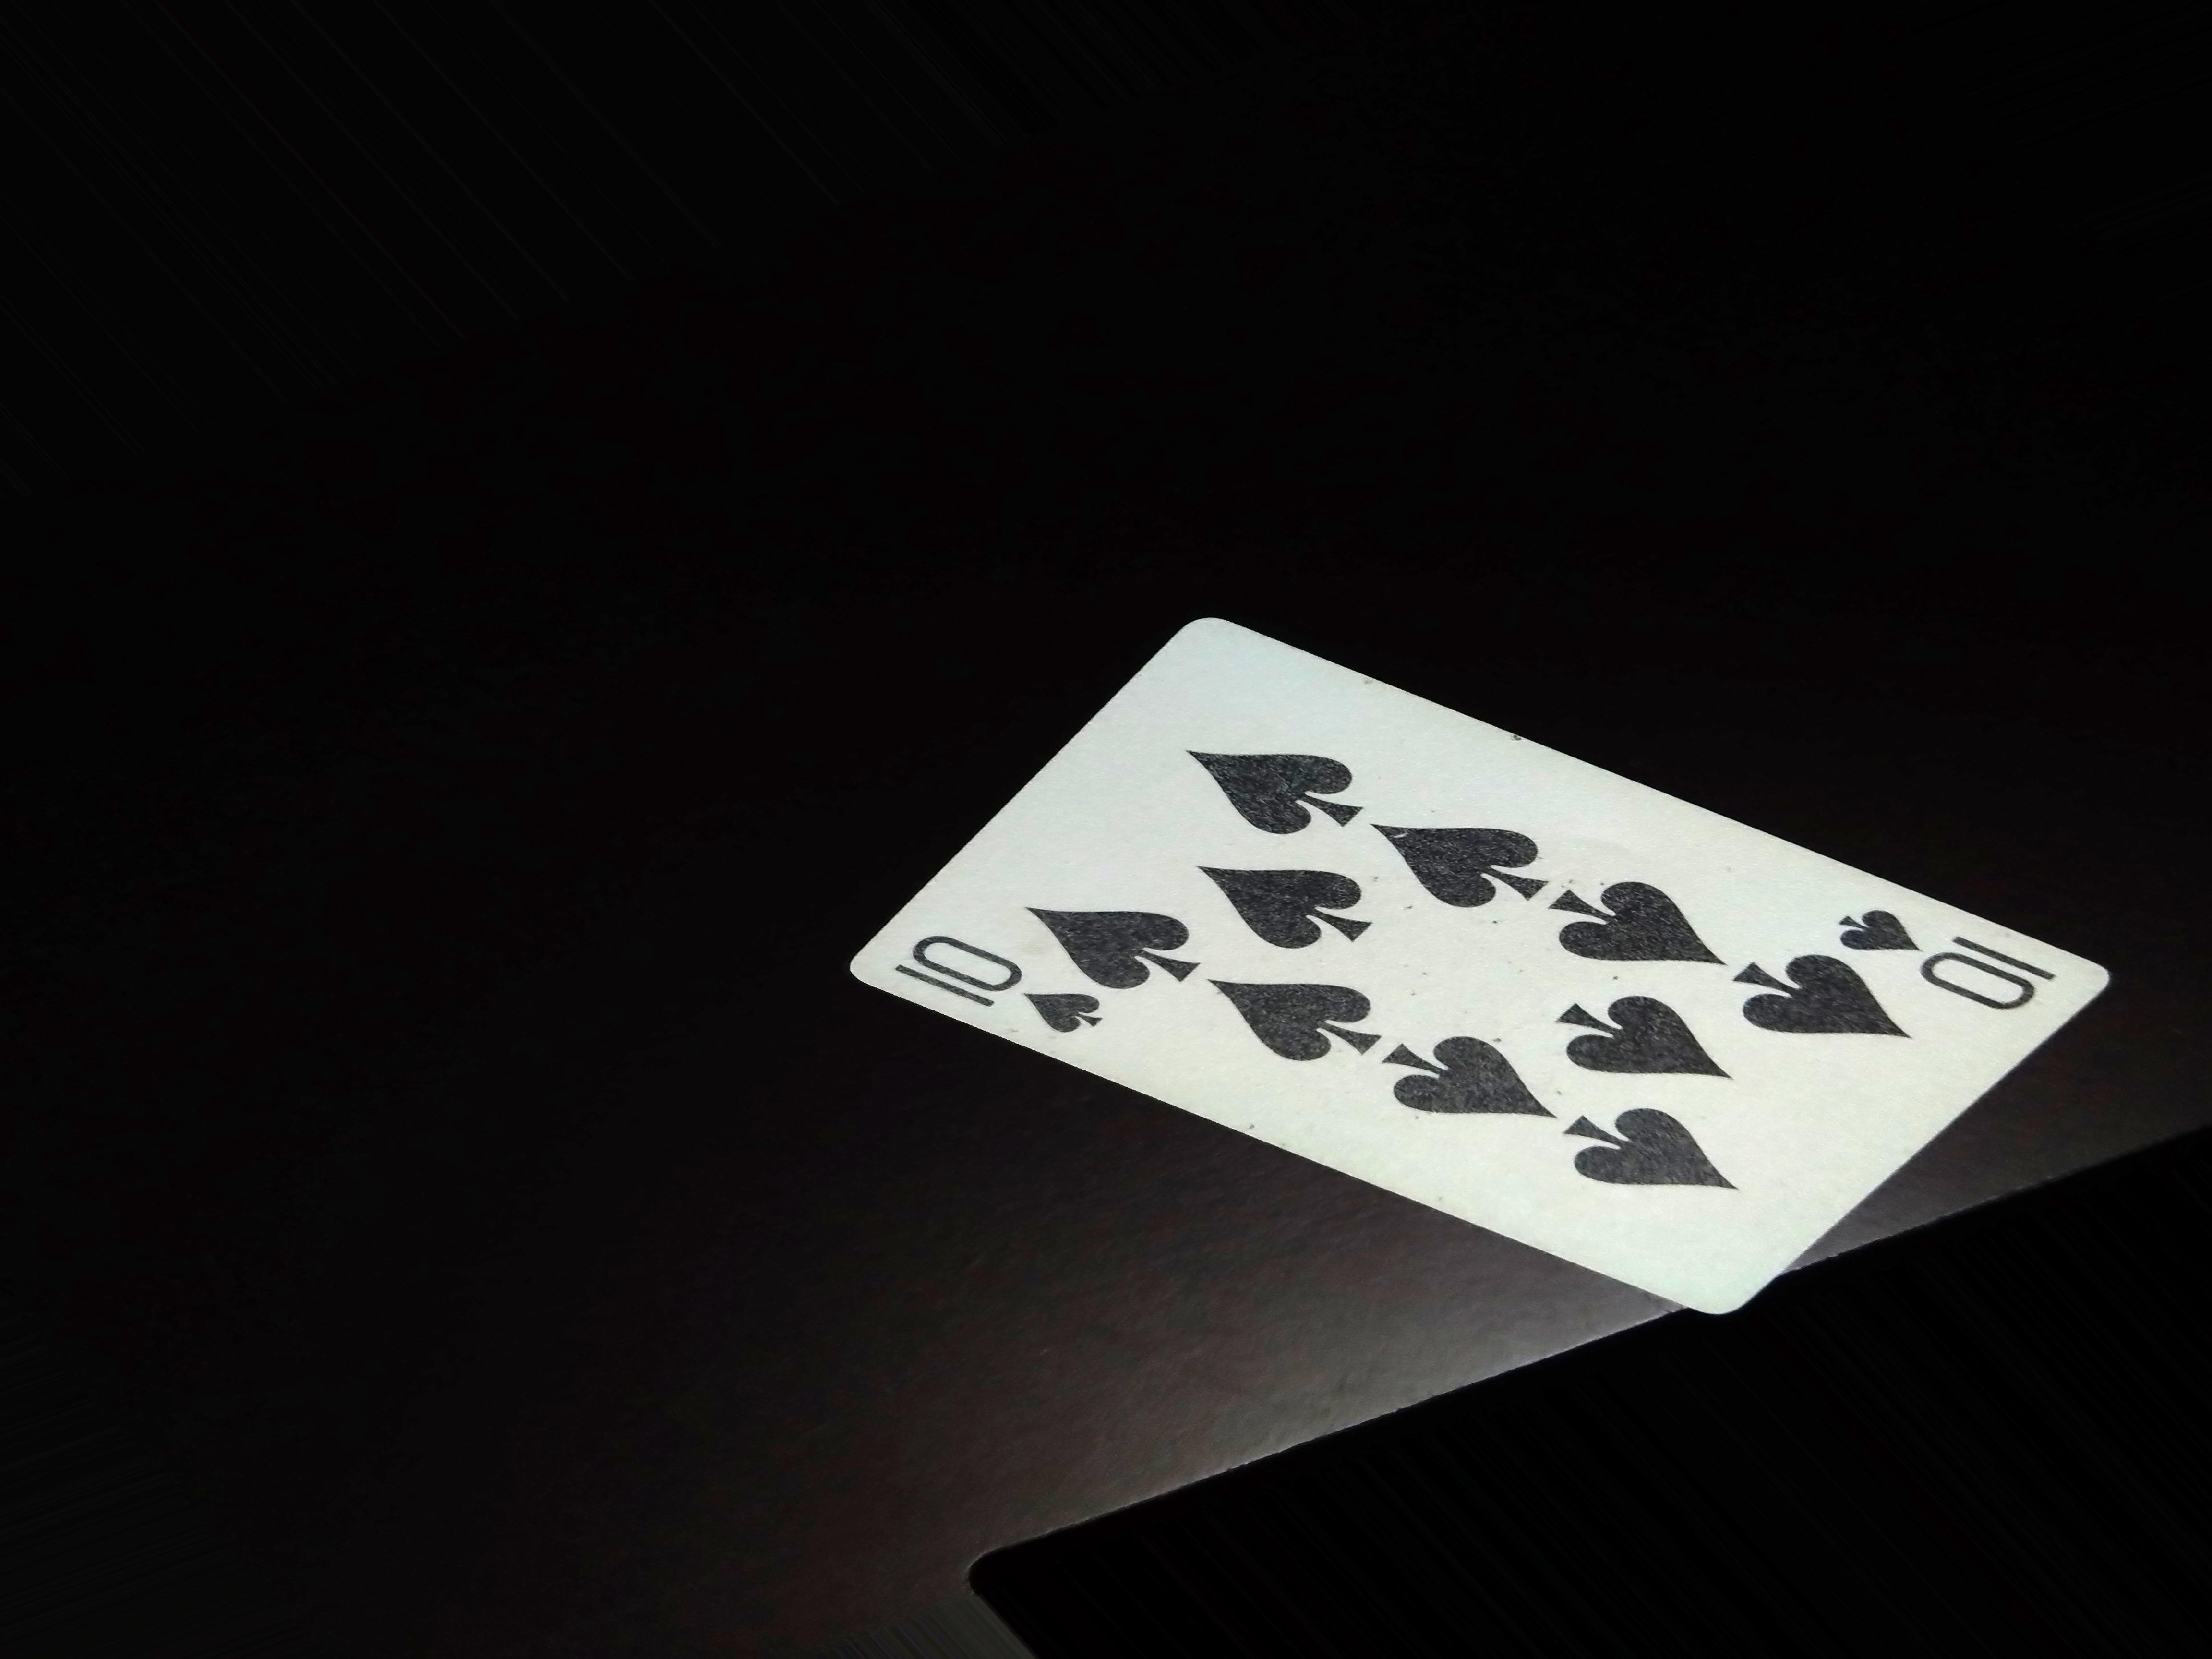10S: (892, 927, 1108, 1068)
